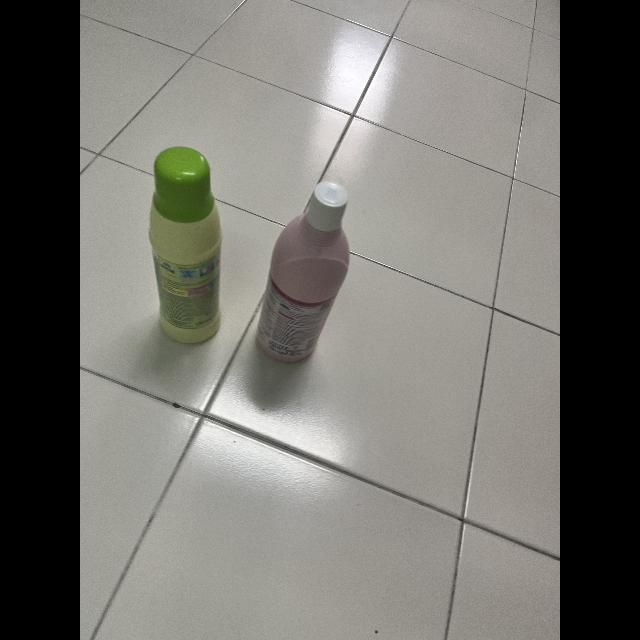chemical_plastic_bottle: (254, 180, 356, 366), (150, 146, 222, 346)
